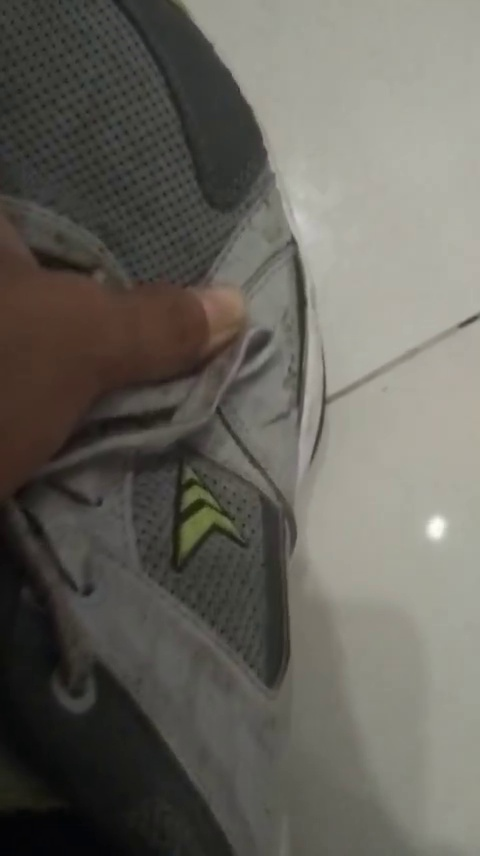bonding: (287, 234, 322, 445)
